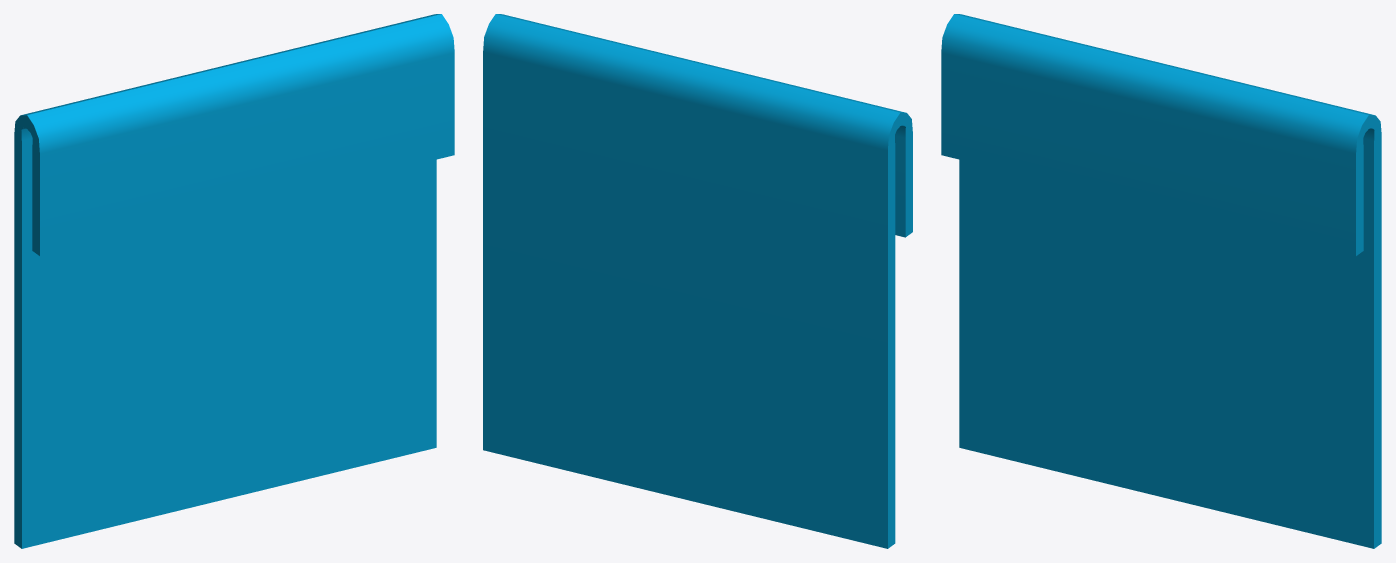
The model's file is Bath_towel_02_Lod0.fbx.
3 views of the same model, side by side, from view 1: azimuth 30°, elevation 25°; view 2: azimuth 150°, elevation 25°; view 3: azimuth 330°, elevation 25° (orthographic). The views are drawn at different scales.
Visible parts, largest first — view 1: Bath_towel_02_Lod0; view 2: Bath_towel_02_Lod0; view 3: Bath_towel_02_Lod0.
Part boxes in pixels (<box>): Bath_towel_02_Lod0: <box>14,14,454,548</box>; Bath_towel_02_Lod0: <box>483,14,912,548</box>; Bath_towel_02_Lod0: <box>941,14,1381,548</box>.
Bounding box in the file's own units: 54.59 × 55.04 × 5.86.
